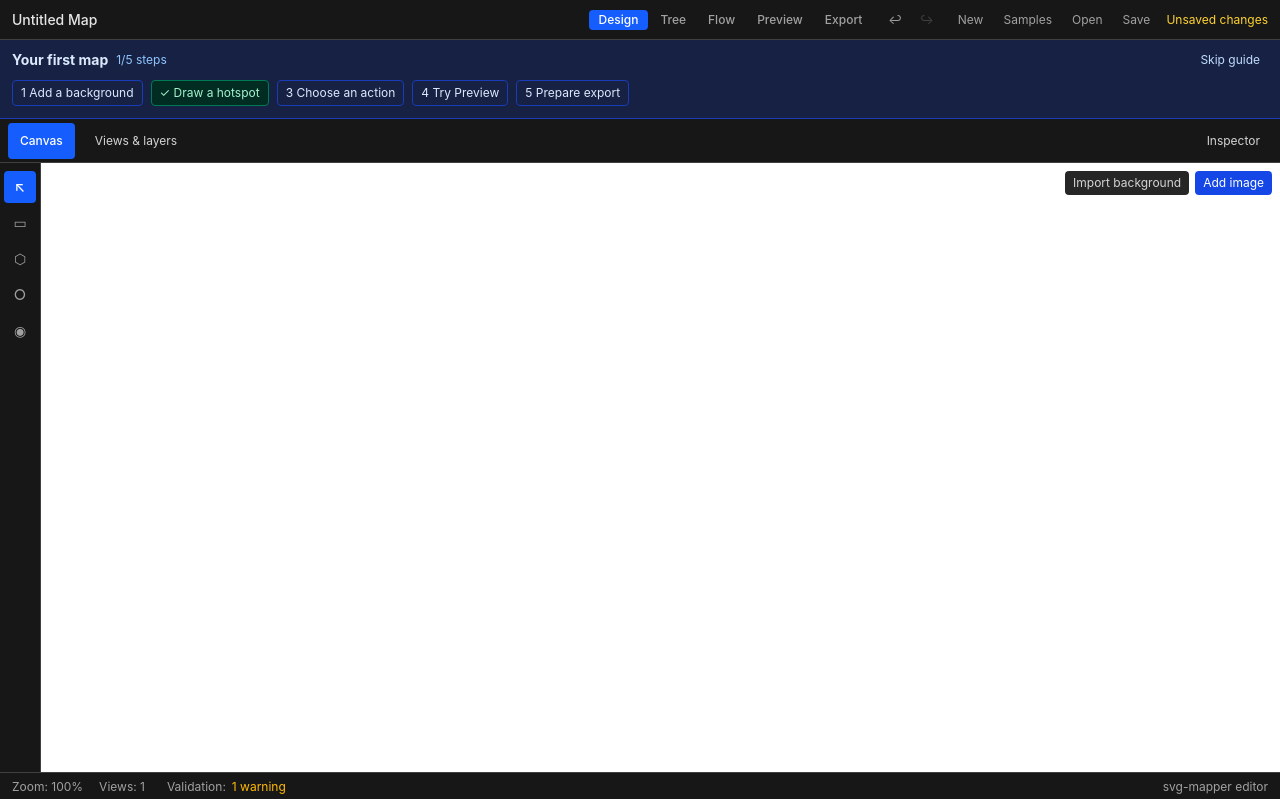
primary editor navigation › lets narrow-screen authors switch to the tree and dismiss the inspector
This screenshot has width=1280, height=799.
Click the button "Inspector" at (1233, 140), box [1195, 122, 1272, 158]
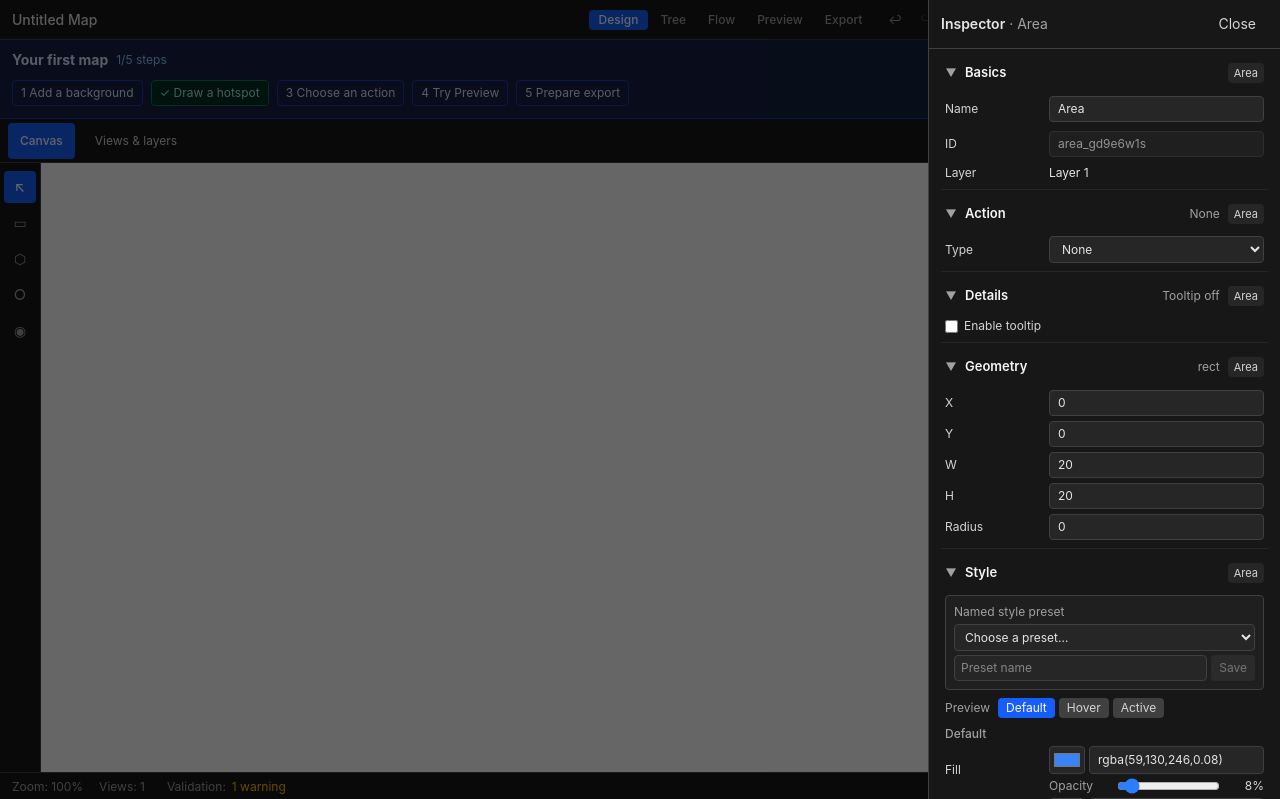
Click the button with aria-label "Close inspector" at (1237, 24), box [1206, 4, 1268, 44]
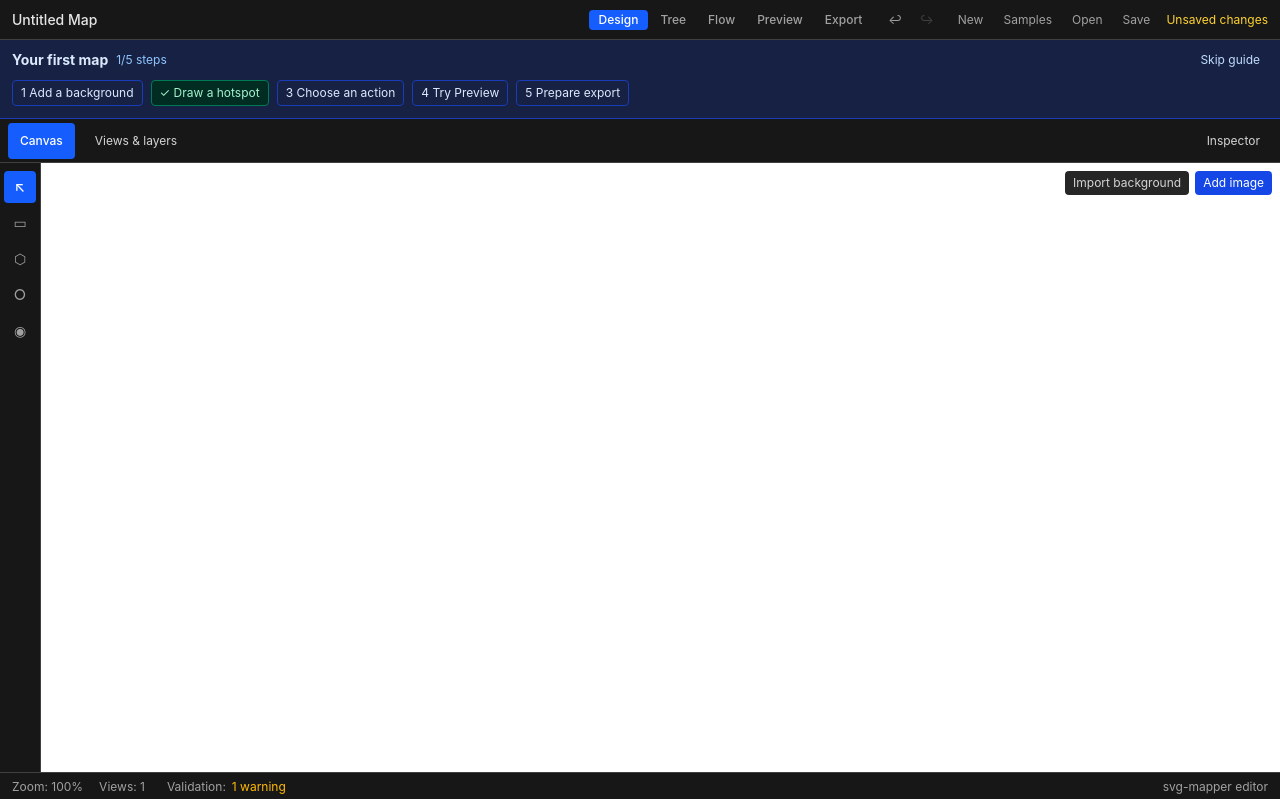
Click the button "Views & layers" at (136, 140), box [83, 122, 189, 158]
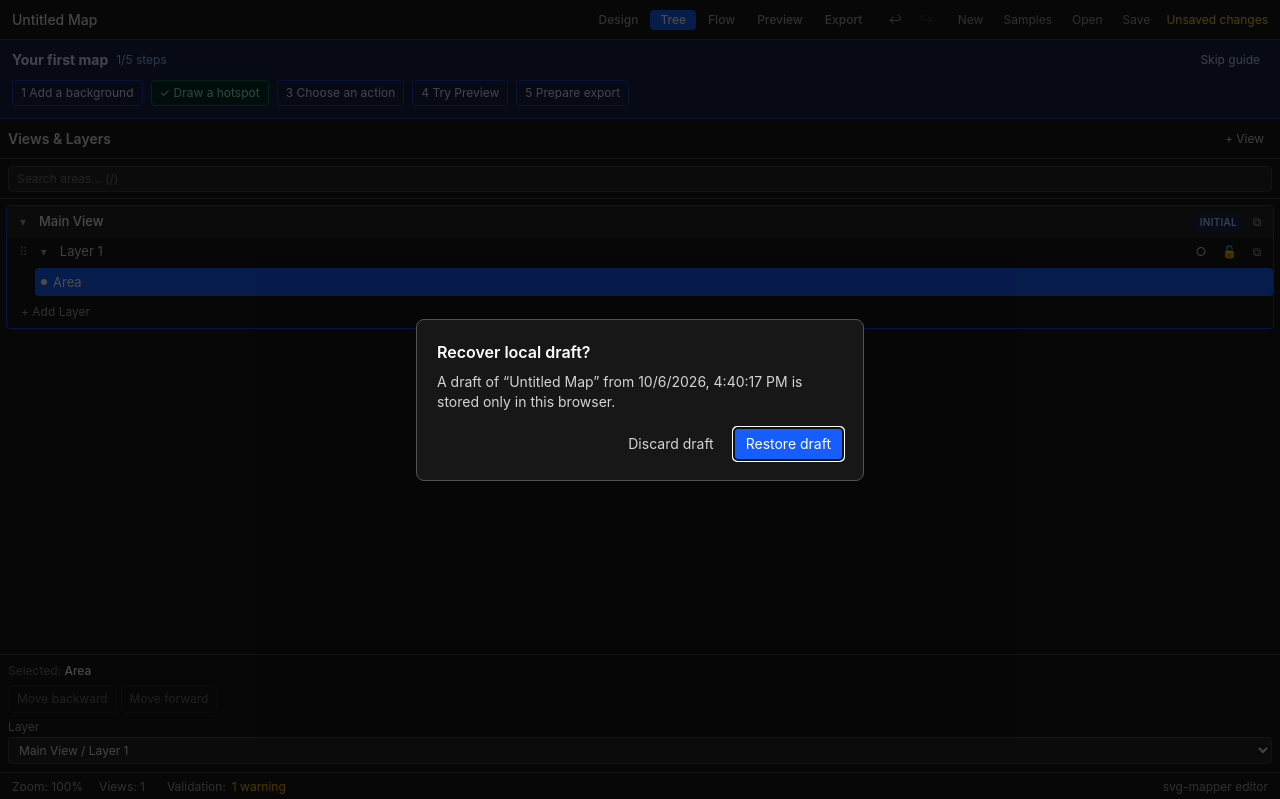
Check: the element named "Views and layers workspace" is shown
